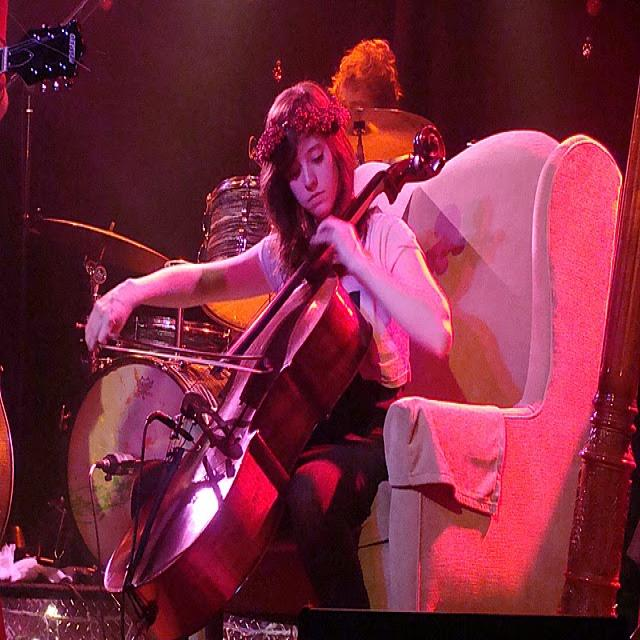cello: (103, 124, 448, 639)
